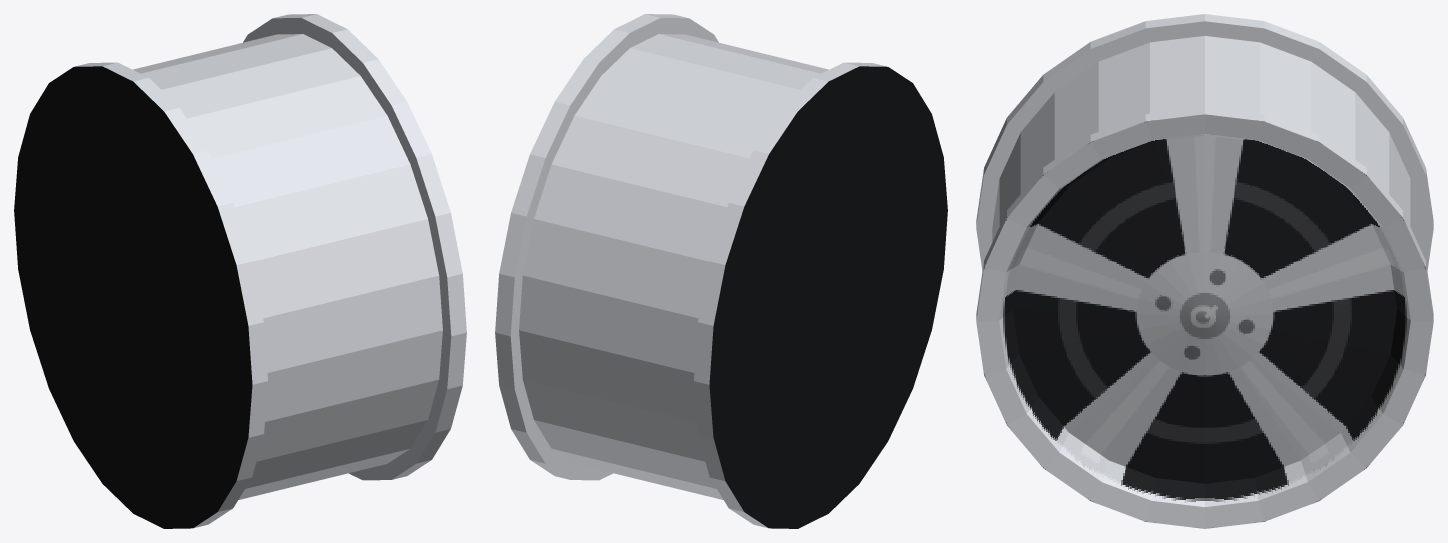
The model's file is quebramola_estrela_13.glb.
The picture shows the model from 3 angles, left to right: view 1: azimuth 30°, elevation 25°; view 2: azimuth 150°, elevation 25°; view 3: azimuth 270°, elevation 25°; orthographic projection. The views are drawn at different scales.
Parts seen in each view (by area): view 1: quebramola_estrela_13; view 2: quebramola_estrela_13; view 3: quebramola_estrela_13.
Boxes of the visible parts, x1,y1,x2,y2 form: quebramola_estrela_13: (14,14,466,528); quebramola_estrela_13: (495,14,947,528); quebramola_estrela_13: (976,14,1433,528).
Size of the model in its own units: 0.192 by 0.3698 by 0.3698.
1 material, 1 textured.
